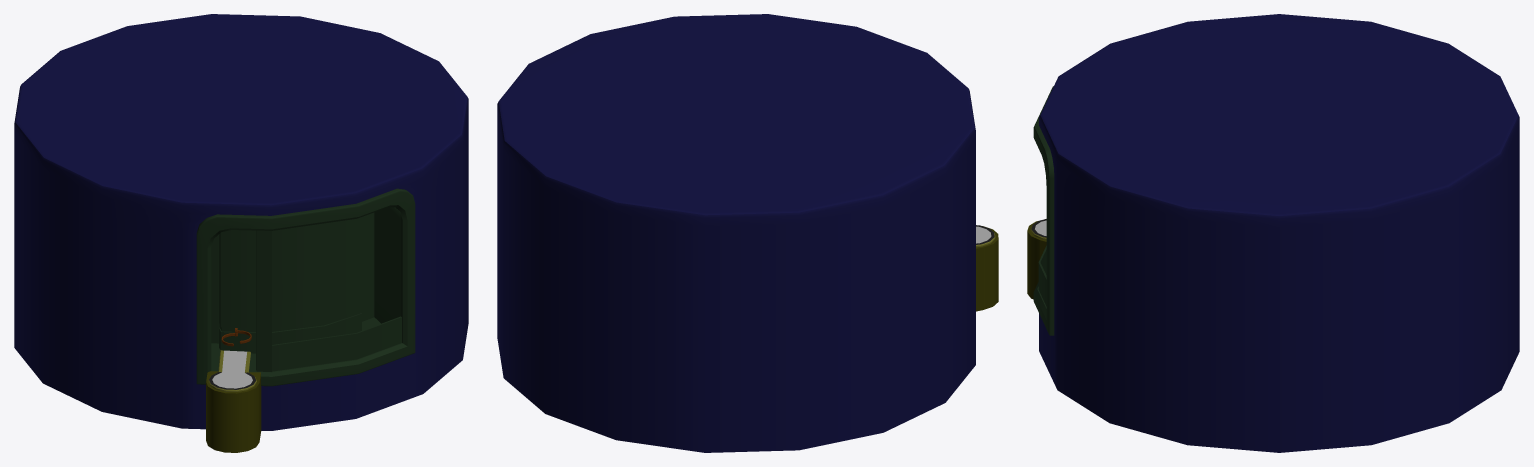
Rendered from ArtilleryAutoLoader.fbx.
3 renders of one model, left to right at view 1: azimuth 30°, elevation 25°; view 2: azimuth 150°, elevation 25°; view 3: azimuth 270°, elevation 25°, orthographic. The views are drawn at different scales.
Visible parts, largest first — view 1: ArtilleryAutoLoader; view 2: ArtilleryAutoLoader; view 3: ArtilleryAutoLoader.
Boxes of the visible parts, bbox=[...] form: ArtilleryAutoLoader: bbox=[14, 14, 468, 452]; ArtilleryAutoLoader: bbox=[497, 14, 998, 452]; ArtilleryAutoLoader: bbox=[1027, 14, 1519, 452].
Bounding box in the file's own units: 376 × 386 × 205.
